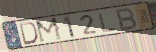1: (63, 15, 77, 40)
2: (79, 14, 99, 36)
B: (115, 6, 139, 32)
D: (19, 22, 40, 46)
L: (97, 11, 118, 33)
M: (34, 16, 64, 44)
